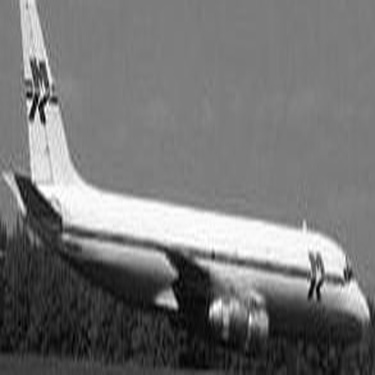airplane: (2, 3, 369, 373)
